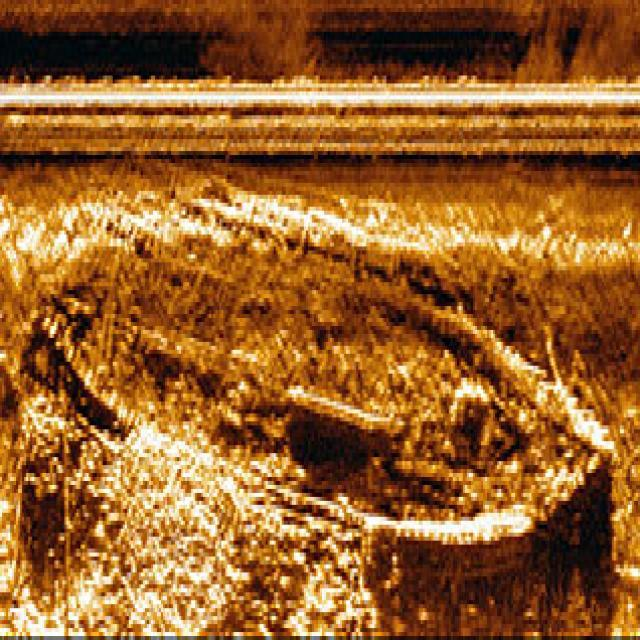shipwreck: (34, 214, 610, 536)
